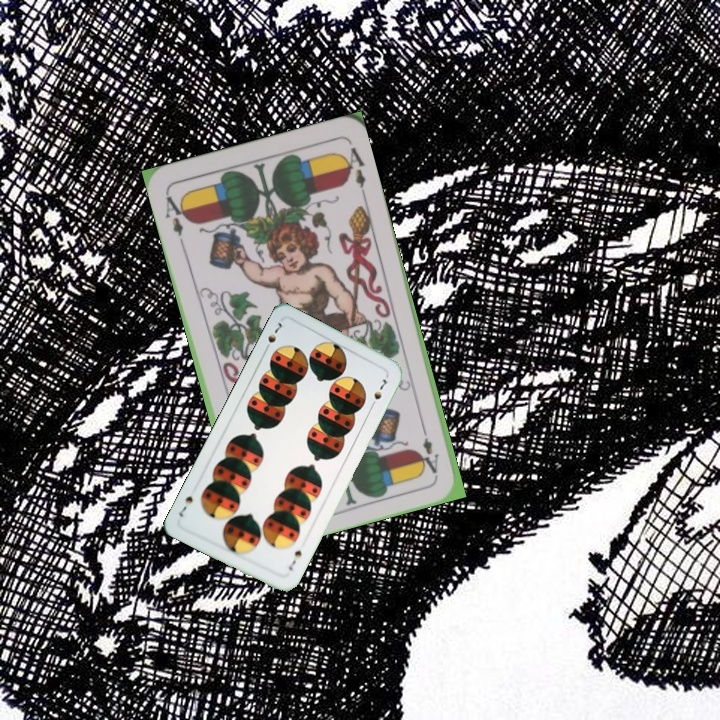EA: (161, 189, 190, 247), (418, 434, 442, 477)
S7: (260, 318, 285, 355), (284, 546, 304, 573)
